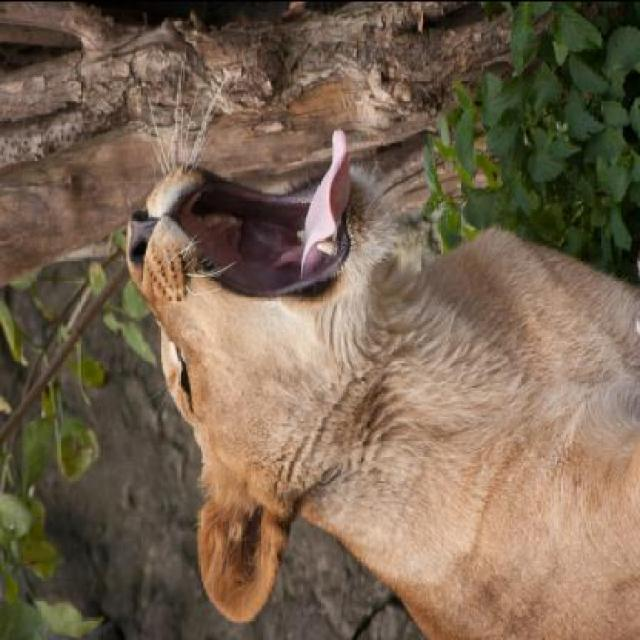Lion: (99, 90, 638, 638)
